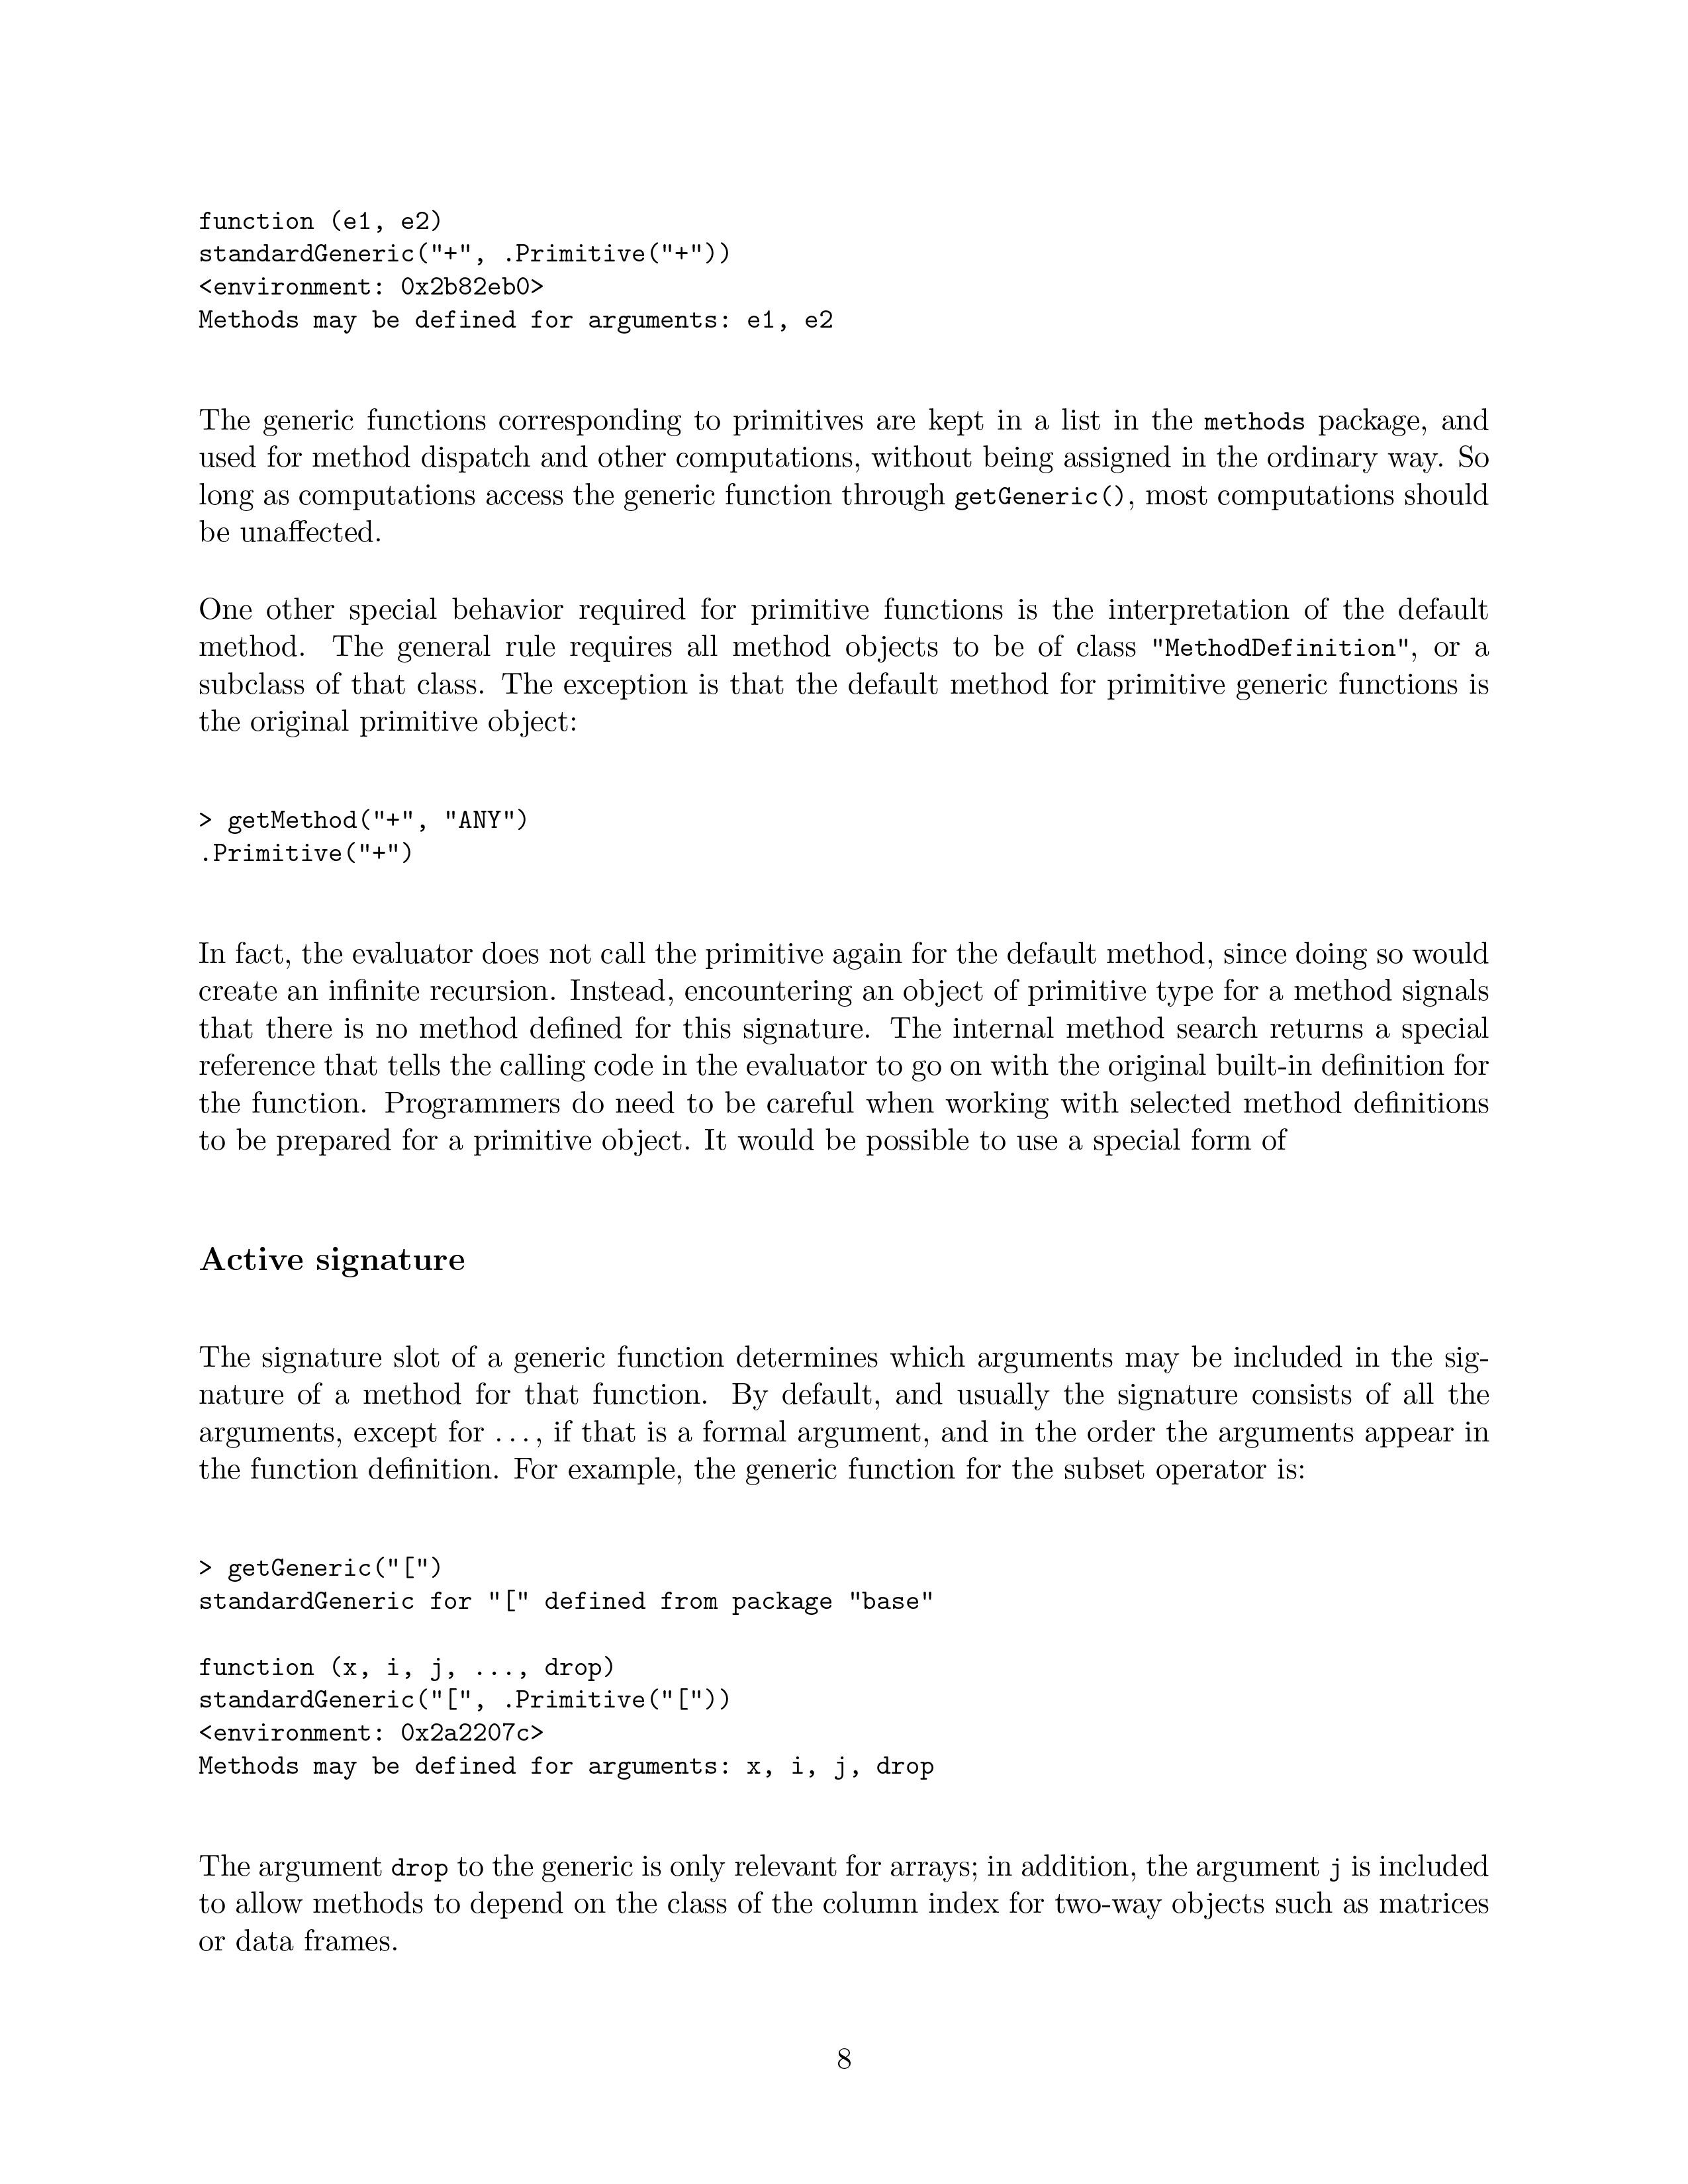section: (181, 1221, 500, 1285)
text: (183, 925, 1505, 1172), (181, 1335, 1509, 1498), (167, 399, 1495, 558), (170, 589, 1479, 743), (163, 1824, 1532, 1964), (177, 1654, 963, 1790), (170, 200, 872, 353), (204, 1540, 956, 1627), (174, 796, 546, 879)
